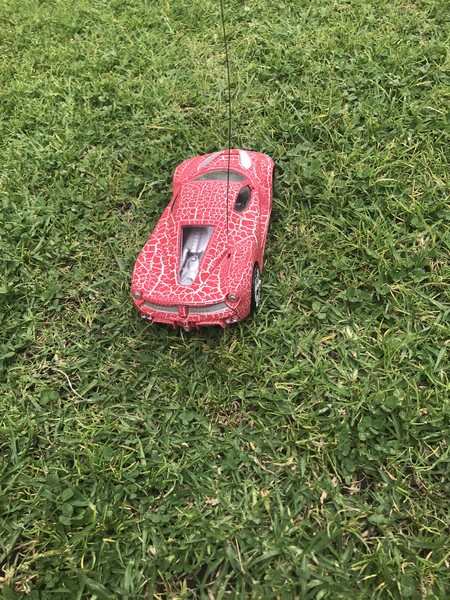RC: (128, 148, 276, 332)
